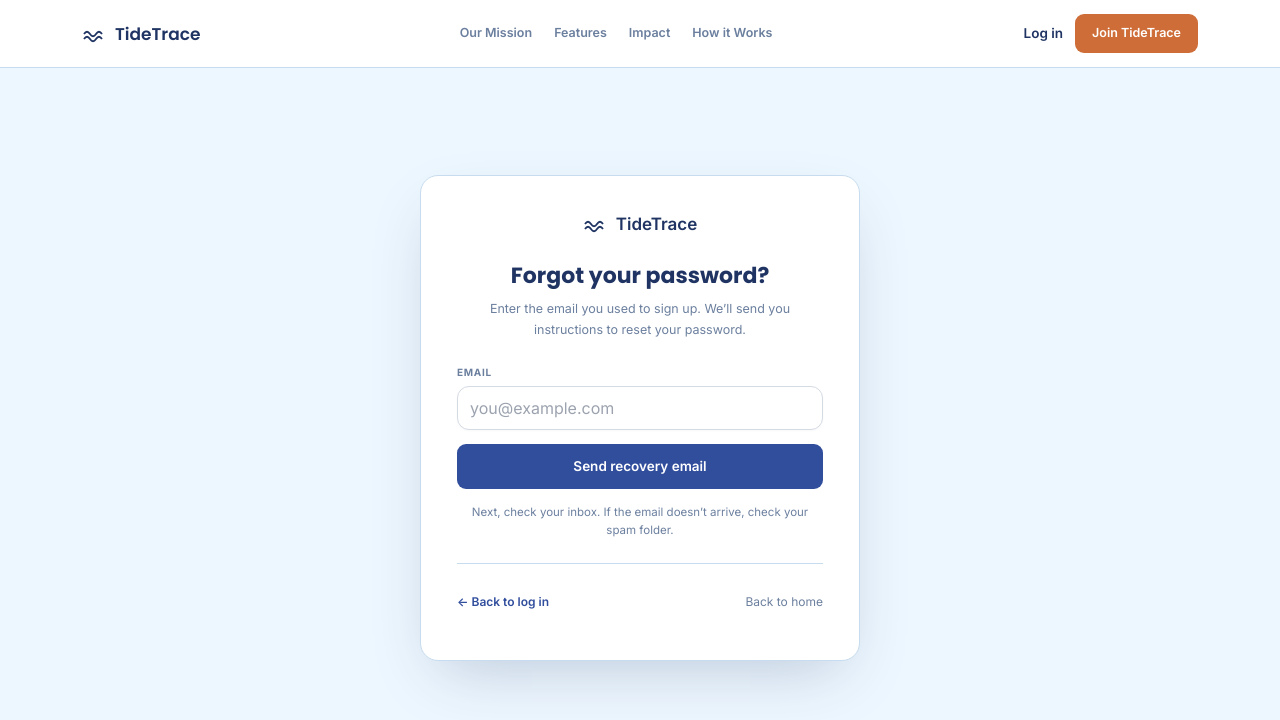
Test: requests recovery without claiming that an account exists
Type "admin@example.test" into the field labelled "Email" at (640, 408), box [457,386,823,430]
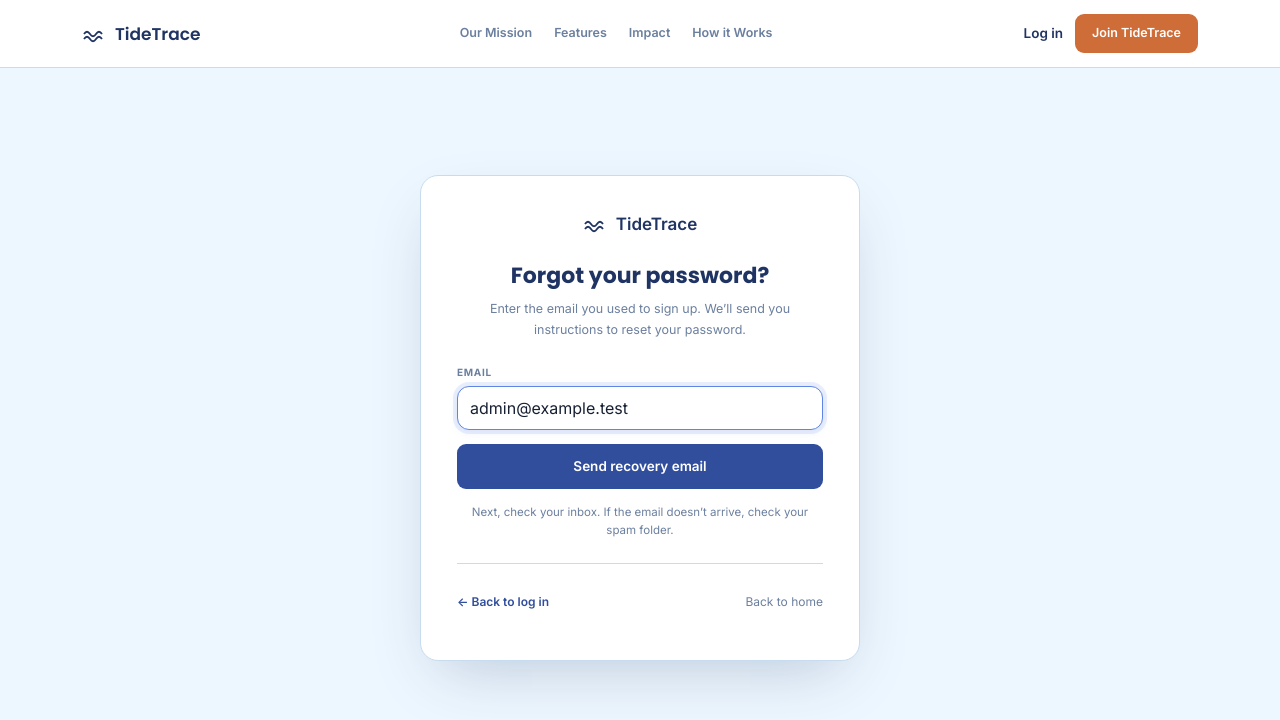
Click the button "Send recovery email" at (640, 466), box [457,444,823,489]
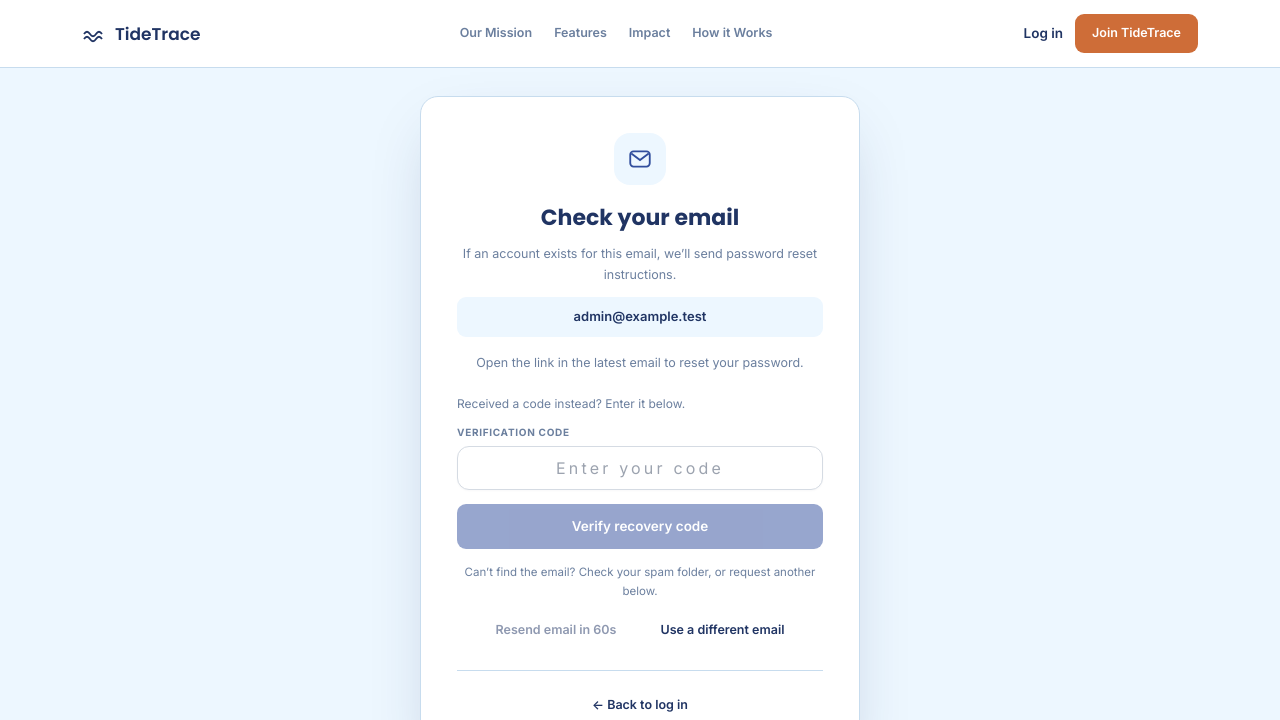
Check: the heading "Check your email" is shown, box [541,202,739,233]
Check: the button "Resend email in 60s" is disabled, box [480,608,632,652]
Check: the text "If an account exists for this email" is shown, box [463,246,817,282]
